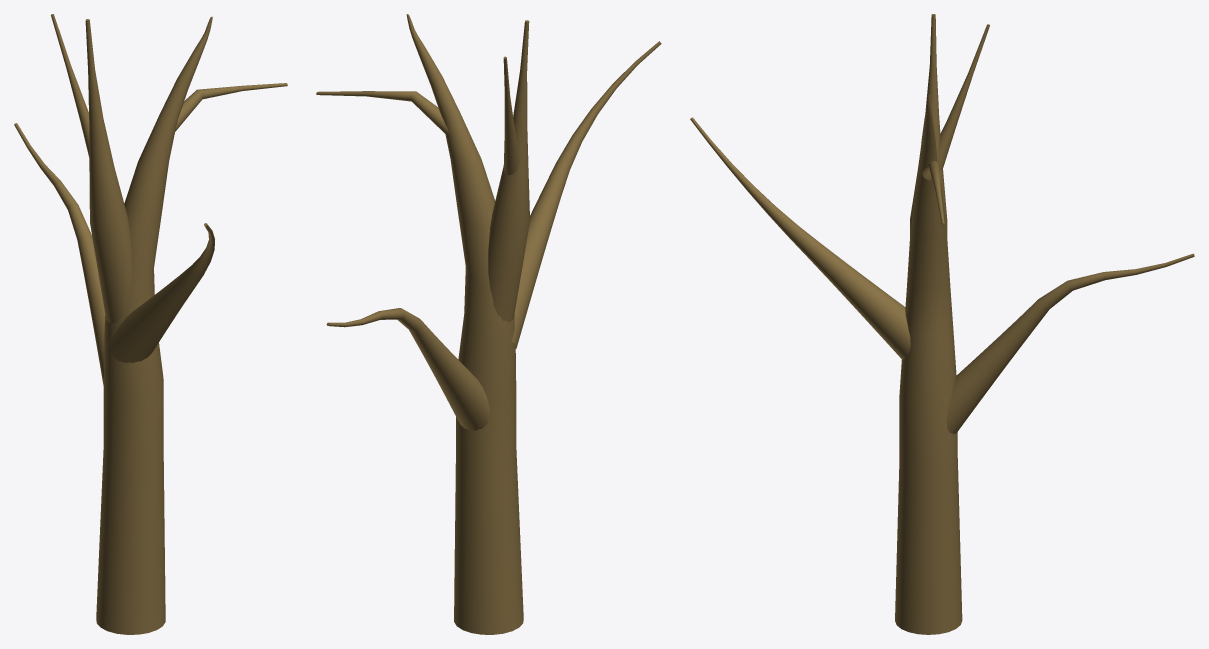
The model's file is Deadtree2.fbx.
3 views of the same model, side by side, from view 1: azimuth 30°, elevation 25°; view 2: azimuth 150°, elevation 25°; view 3: azimuth 270°, elevation 25° (orthographic). The views are drawn at different scales.
Parts seen in each view (by area): view 1: MainTrunk, Branch1, Branch4, Branch5, Branch3, Branch2; view 2: MainTrunk, Branch1, Branch4, Branch5, Branch3, Branch2; view 3: MainTrunk, Branch4, Branch5, Branch1, Branch2.
Part boxes in pixels (x1,y1,x2,y2): MainTrunk: [96, 16, 212, 634]; Branch1: [85, 19, 131, 323]; Branch4: [107, 223, 214, 362]; Branch5: [14, 123, 105, 385]; Branch3: [175, 83, 287, 131]; Branch2: [51, 14, 89, 157]; MainTrunk: [406, 14, 523, 634]; Branch1: [488, 20, 529, 322]; Branch4: [511, 41, 661, 348]; Branch5: [326, 308, 489, 430]; Branch3: [316, 91, 448, 134]; Branch2: [503, 56, 519, 174]; MainTrunk: [895, 95, 962, 634]; Branch4: [690, 117, 910, 359]; Branch5: [946, 253, 1194, 434]; Branch1: [910, 14, 947, 236]; Branch2: [938, 24, 989, 170].
Bounding box in the file's own units: 2.02 × 5.51 × 4.29.
